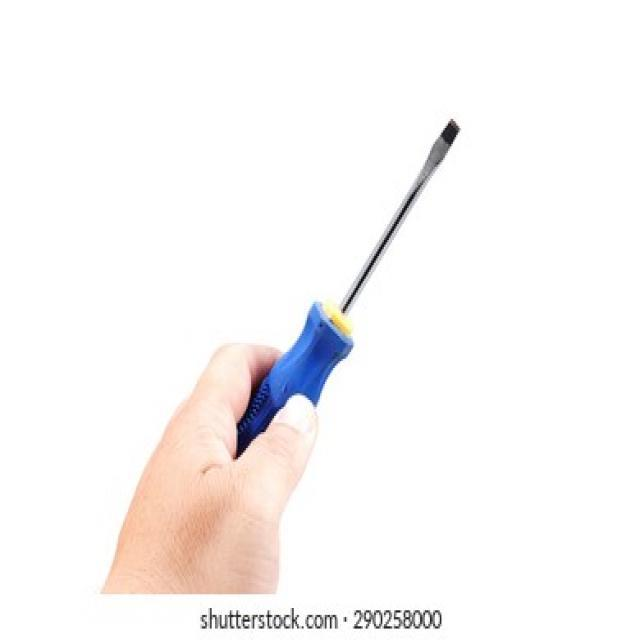screwdriver: (219, 109, 464, 492)
